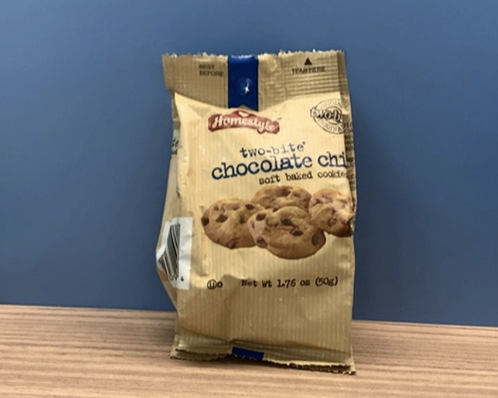cookies_50g: (189, 92, 349, 306)
